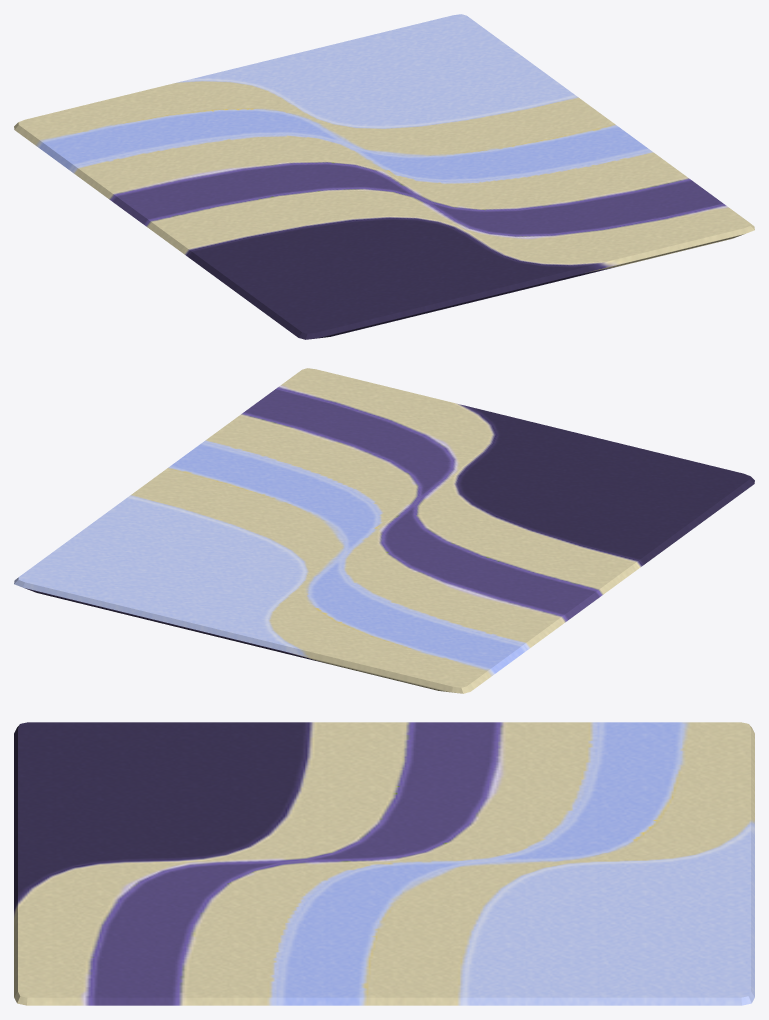
The model's file is Throw_Rug_09.FBX.
3 renders of one model, top to bottom at view 1: azimuth 30°, elevation 25°; view 2: azimuth 150°, elevation 25°; view 3: azimuth 270°, elevation 25°, orthographic. The views are drawn at different scales.
Visible parts, largest first — view 1: Shag_Carpet; view 2: Shag_Carpet; view 3: Shag_Carpet.
Boxes of the visible parts, box(x1,y1,x2,y2) form: Shag_Carpet: box(14, 14, 754, 339); Shag_Carpet: box(14, 368, 754, 693); Shag_Carpet: box(14, 722, 754, 1005).
Size of the model in its own units: 244 by 3.17 by 273.
